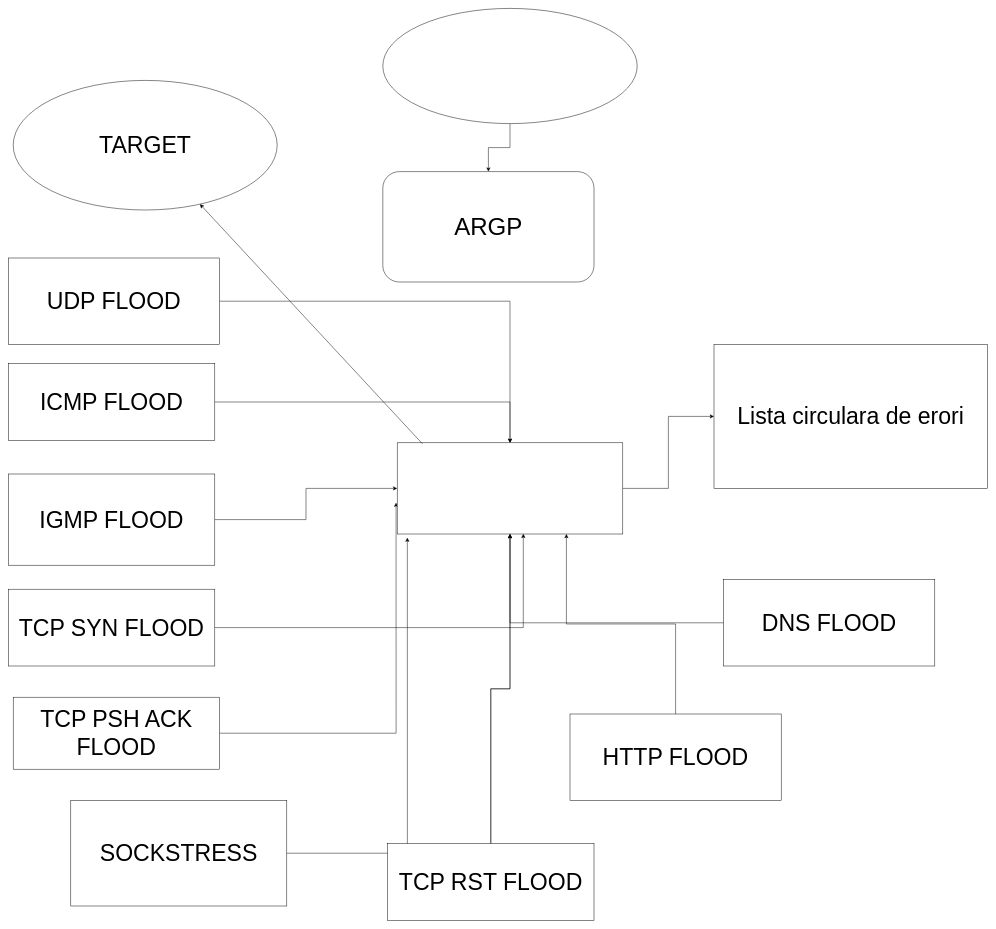
Image size: 996x929. Some labels were removed from this diagram. The centre of each missing label's shape, as x and y in pixels:
Command: the point at 510,488
Utilizator: the point at 509,66
